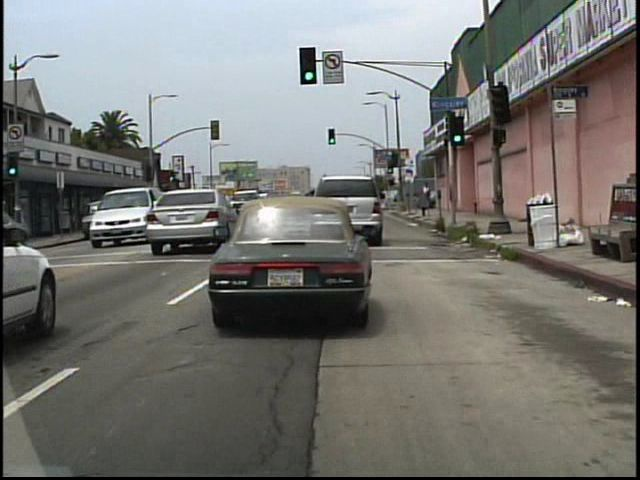person: (419, 182, 432, 211)
